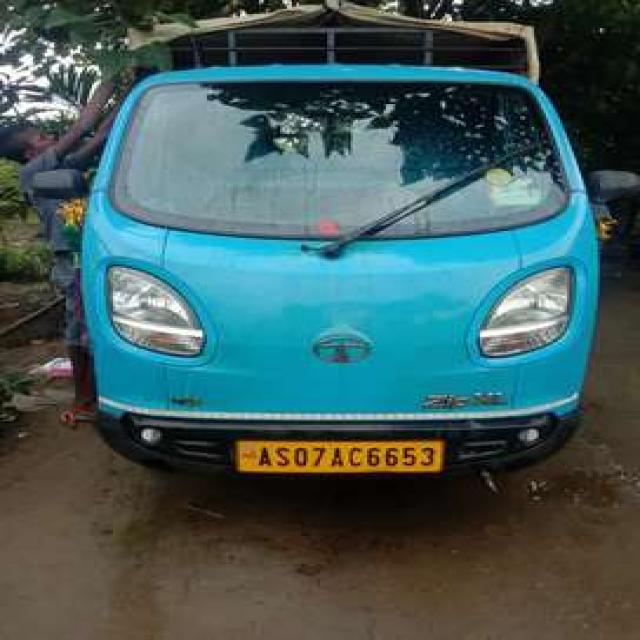Plate: (232, 438, 444, 472)
